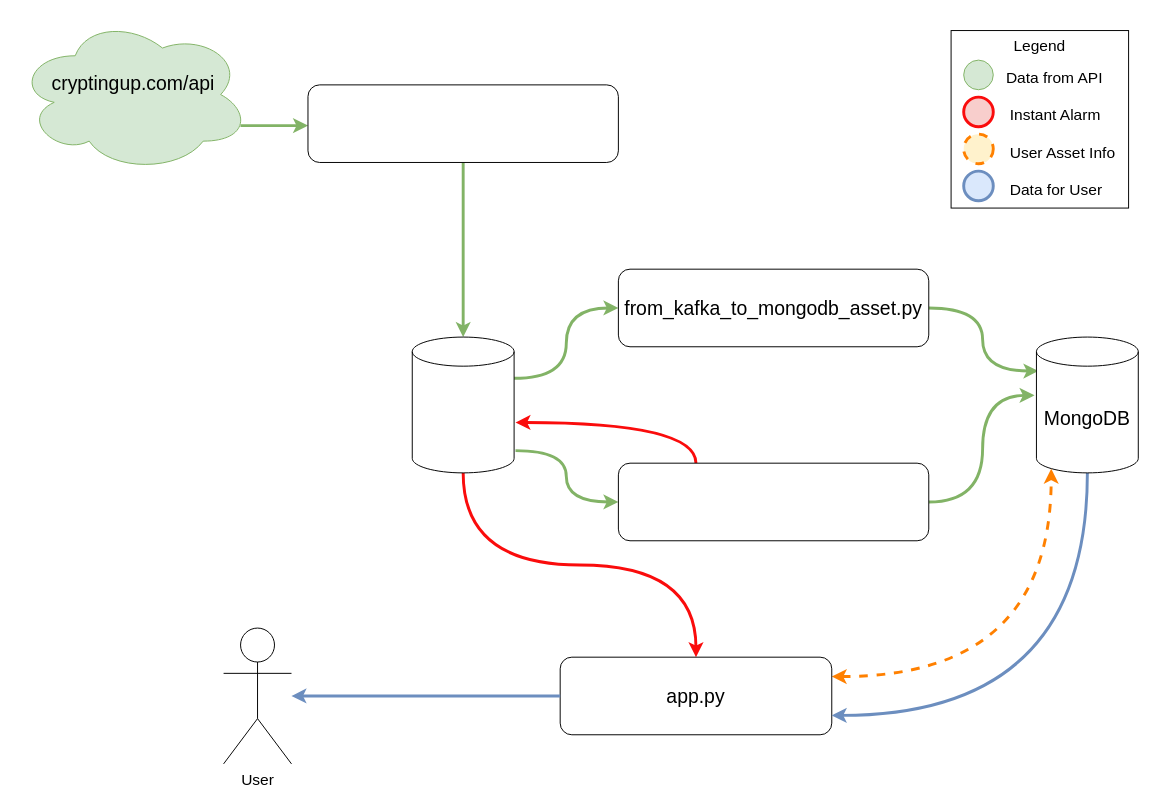
Image size: 1161x806. Some labels were removed from this diagram. Here are the shapes that lost their labels. From the top down, the centre of each, then its label:
At point 462,123: "from_cryptingup_to_kafka.py".
At point 462,404: "Kafka".
At point 773,501: "from_kafka_to_mongodb_market.py".
